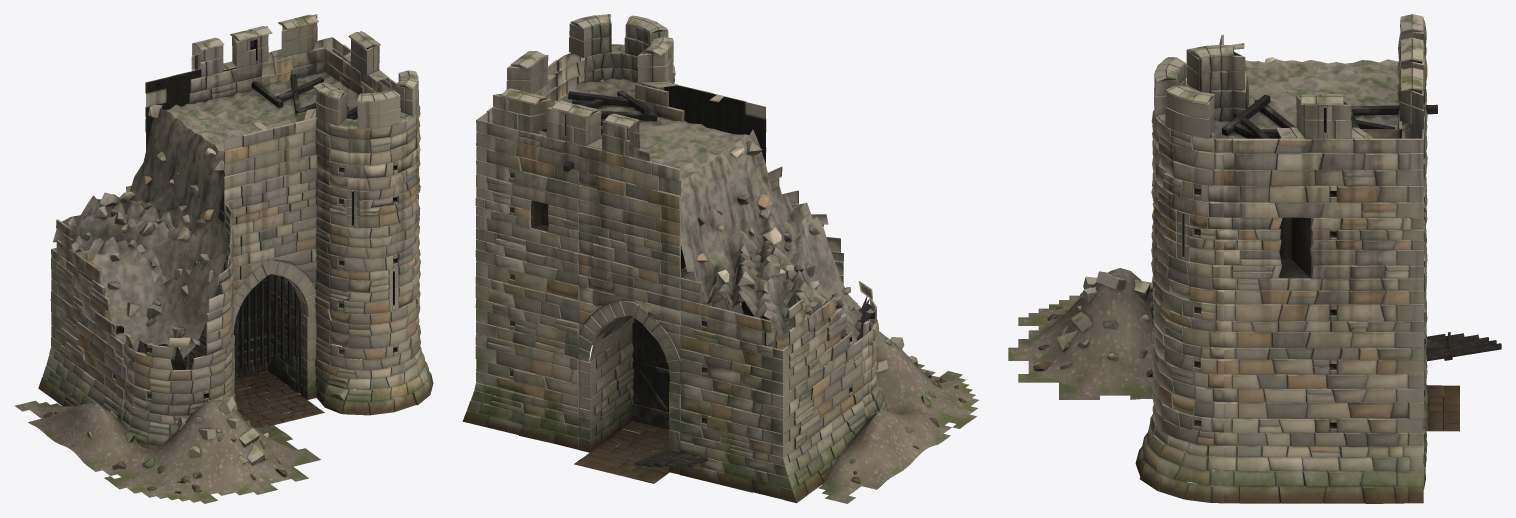
Rendered from gatehouse_ruin.glb.
3 views of the same model, side by side, from view 1: azimuth 30°, elevation 25°; view 2: azimuth 150°, elevation 25°; view 3: azimuth 270°, elevation 25° (orthographic). The views are drawn at different scales.
Parts seen in each view (by area): view 1: gatehouse_ruin_LOD0; view 2: gatehouse_ruin_LOD0; view 3: gatehouse_ruin_LOD0.
Boxes of the visible parts, x1,y1,x2,y2 form: gatehouse_ruin_LOD0: [14, 14, 433, 503]; gatehouse_ruin_LOD0: [462, 14, 978, 503]; gatehouse_ruin_LOD0: [1008, 14, 1501, 503].
Size of what is drawn, in the model's own units: 15.02 by 13.02 by 14.42.
1 material, 1 textured.
